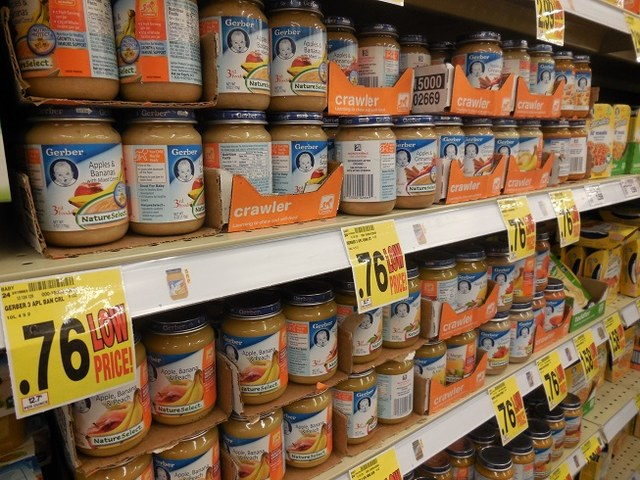MamyPoko Pants: (32, 24, 608, 456)
